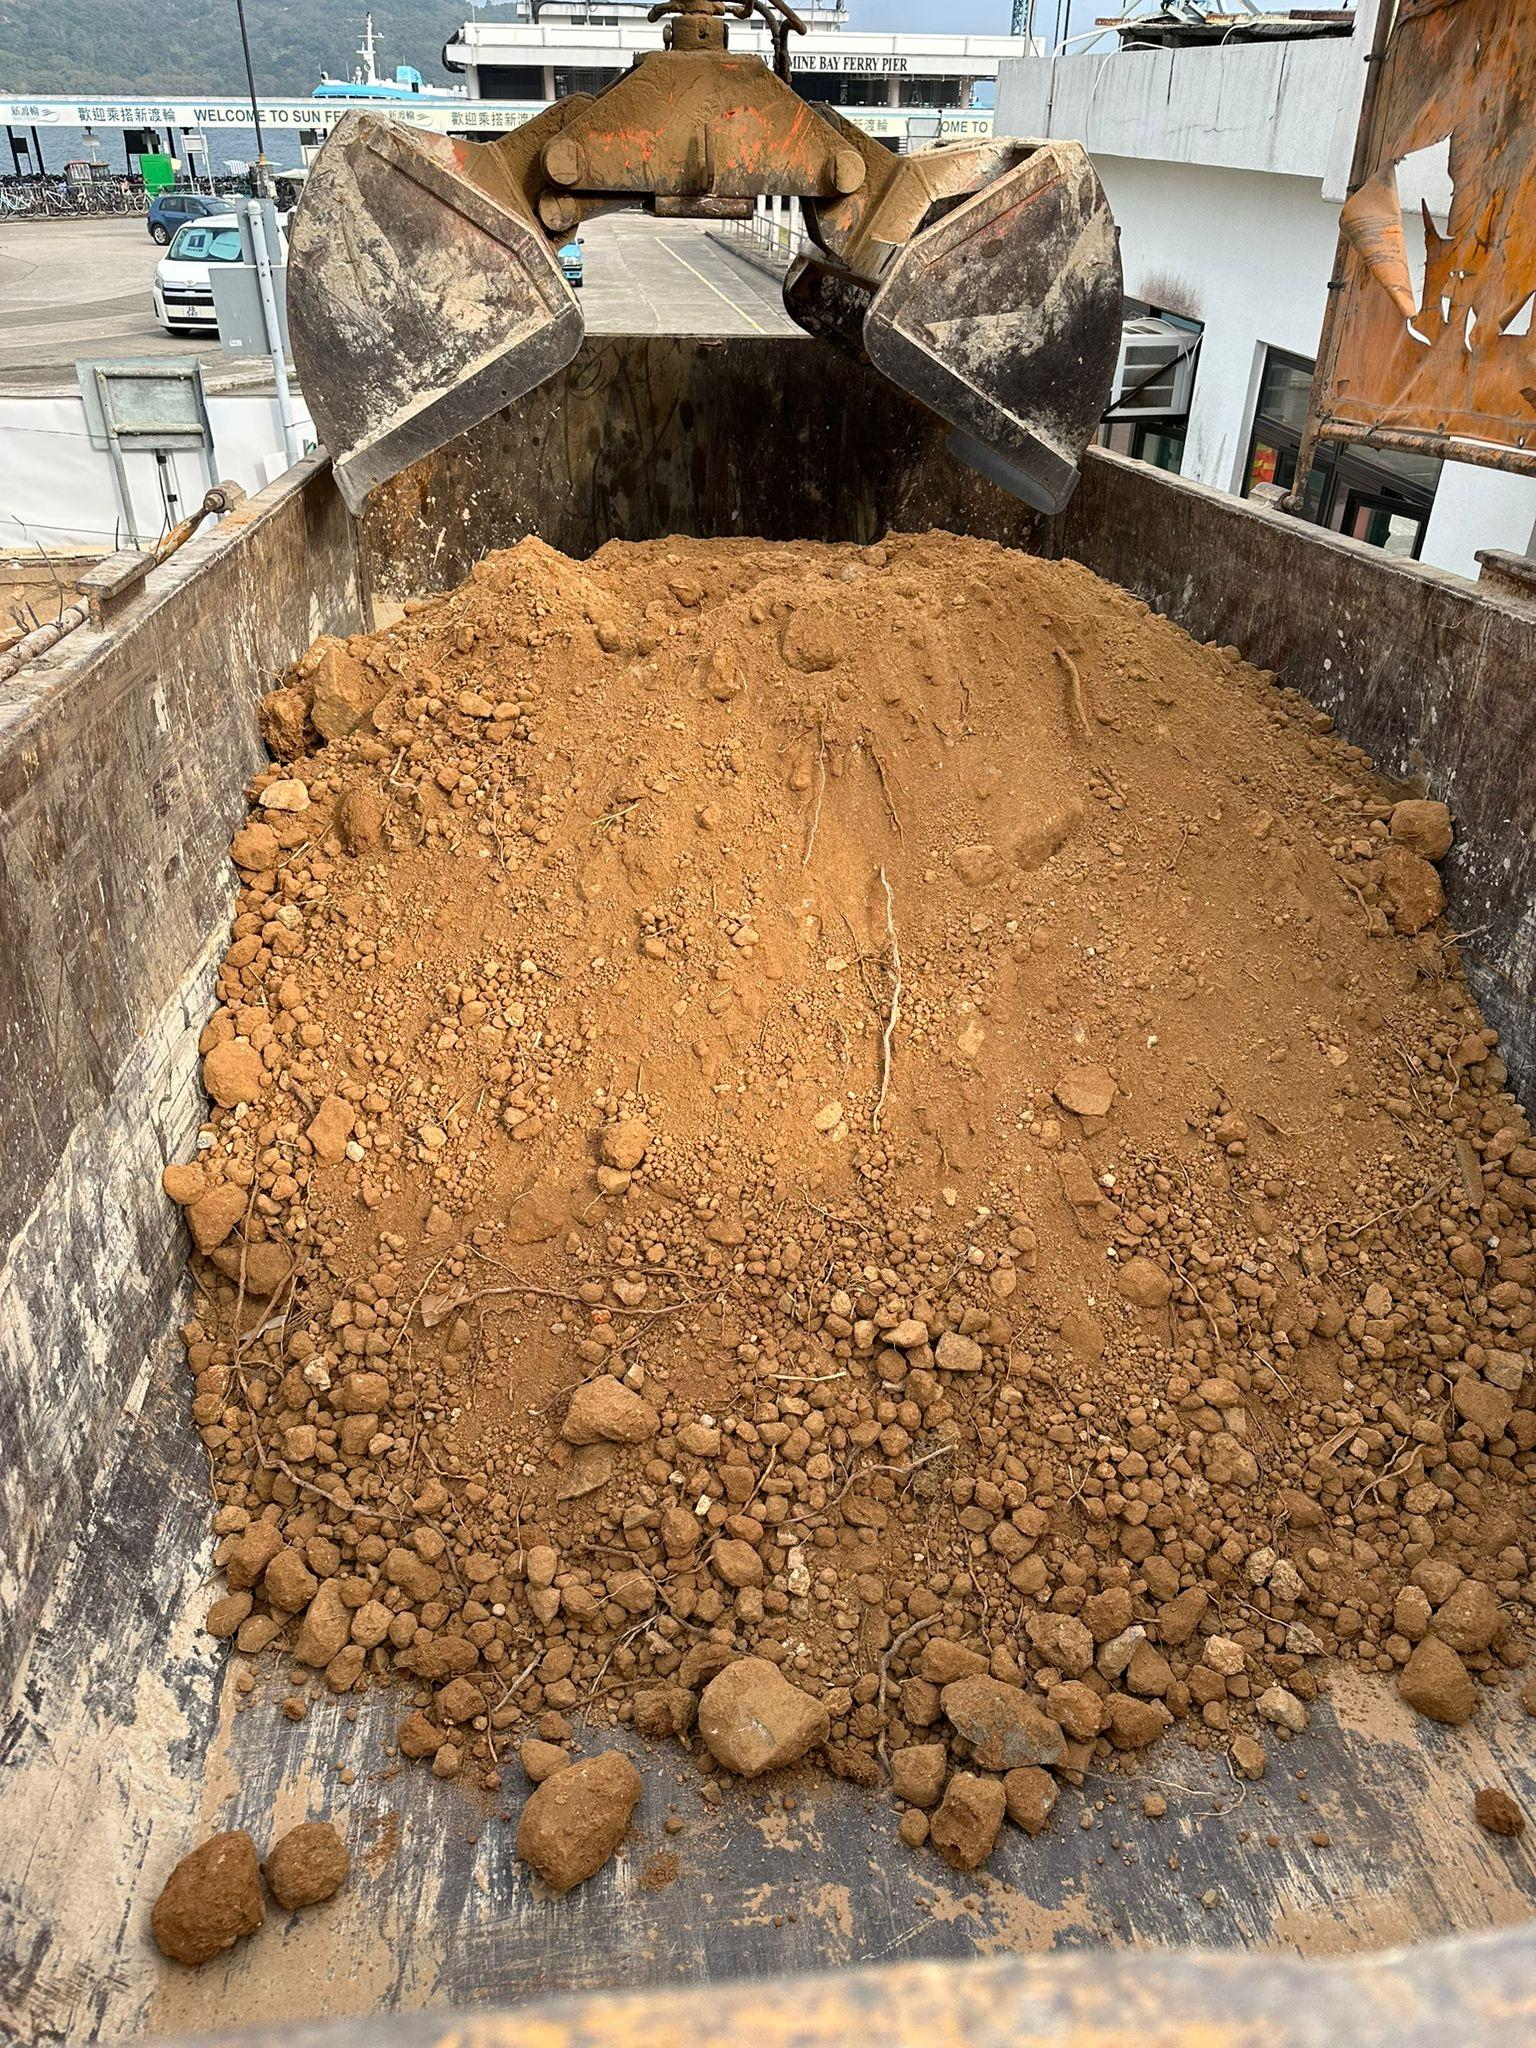dirt: (165, 522, 1533, 1887)
stone: (515, 1748, 642, 1892), (695, 1655, 829, 1775), (150, 1829, 265, 1964), (941, 1672, 1066, 1769), (928, 1771, 1005, 1869), (265, 1821, 349, 1909), (560, 1372, 658, 1447), (1396, 1635, 1476, 1722), (1370, 843, 1444, 934), (1388, 797, 1454, 860), (1052, 1064, 1117, 1116), (1473, 1785, 1525, 1835)
